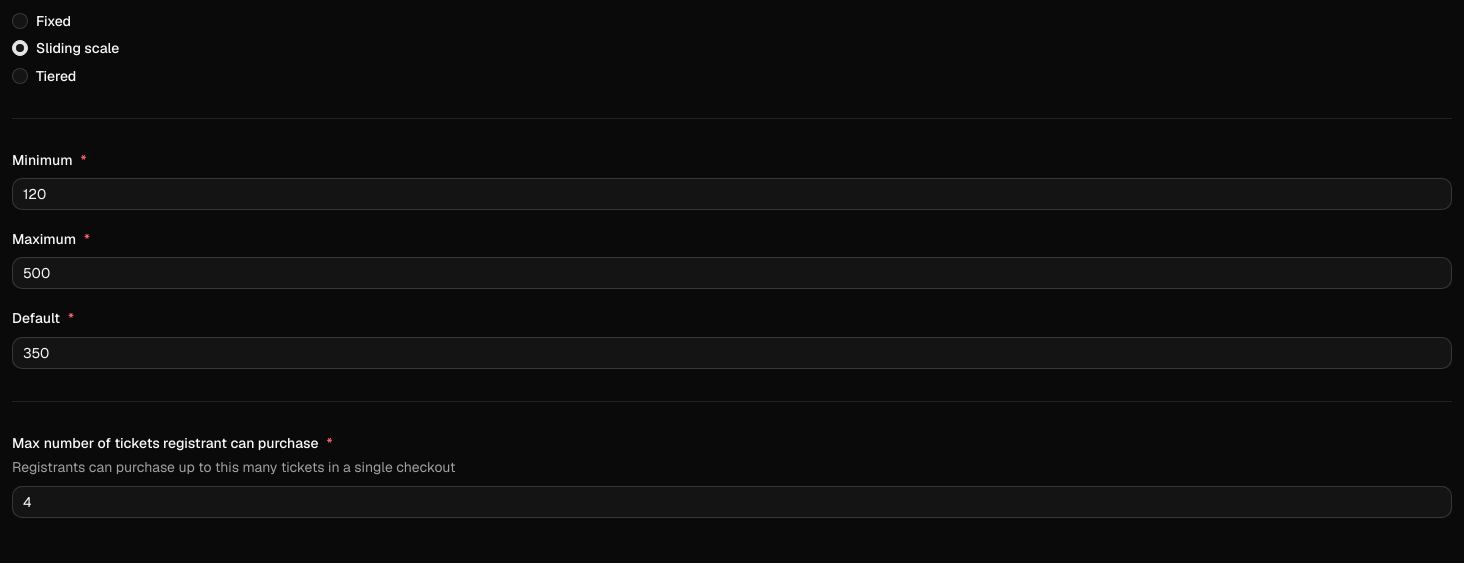
Test case: AdmissionsForm › switching modes › stays on the current mode while it has an error
Clear the number field with id "admissions-sliding-default" at (732, 352), box 12,336 -> 1452,368
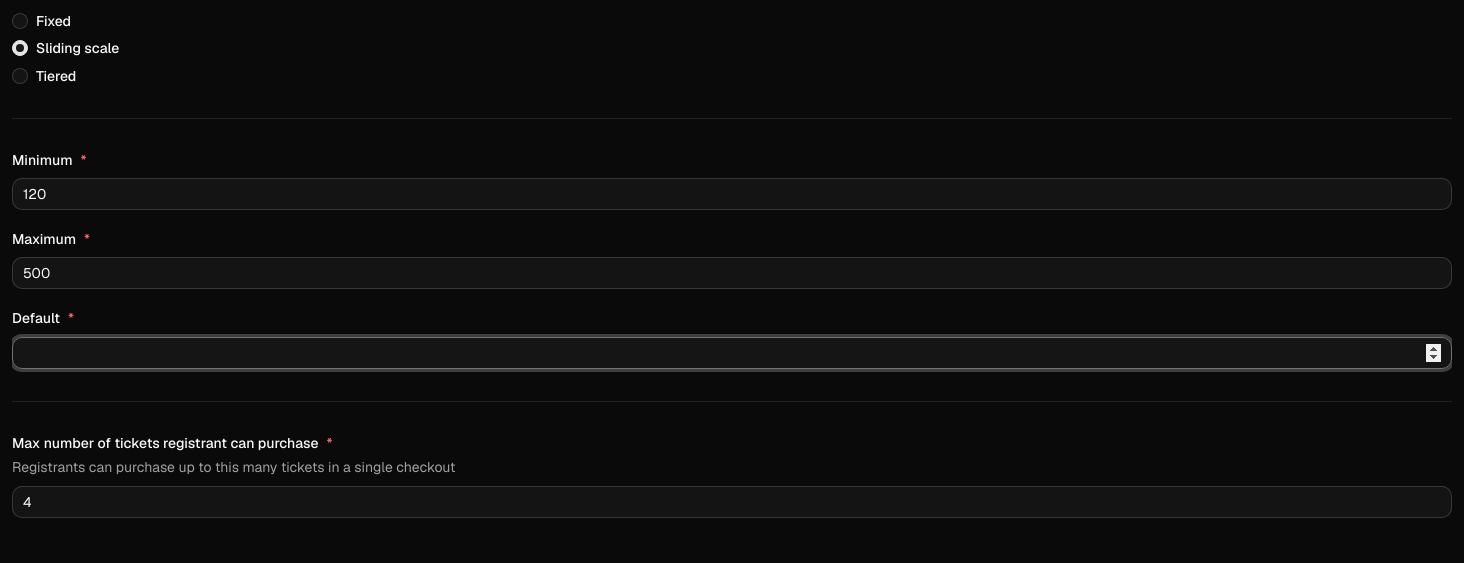
Click the radio button named "Fixed" next to "Fixed".
click(20, 21)  # box 12,13 -> 28,29
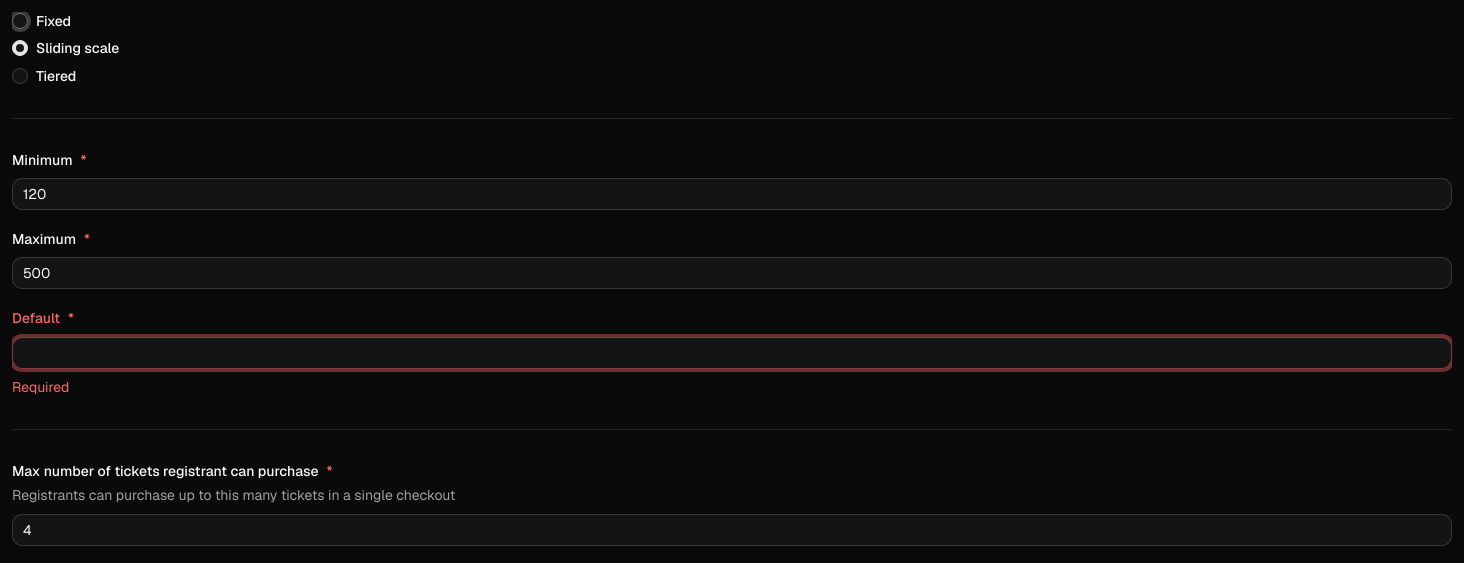
expect the radio button named "Sliding scale" next to "Sliding scale" is checked: met, box 12,40 -> 28,56
expect the message reads "Required": met, box 12,378 -> 69,396
